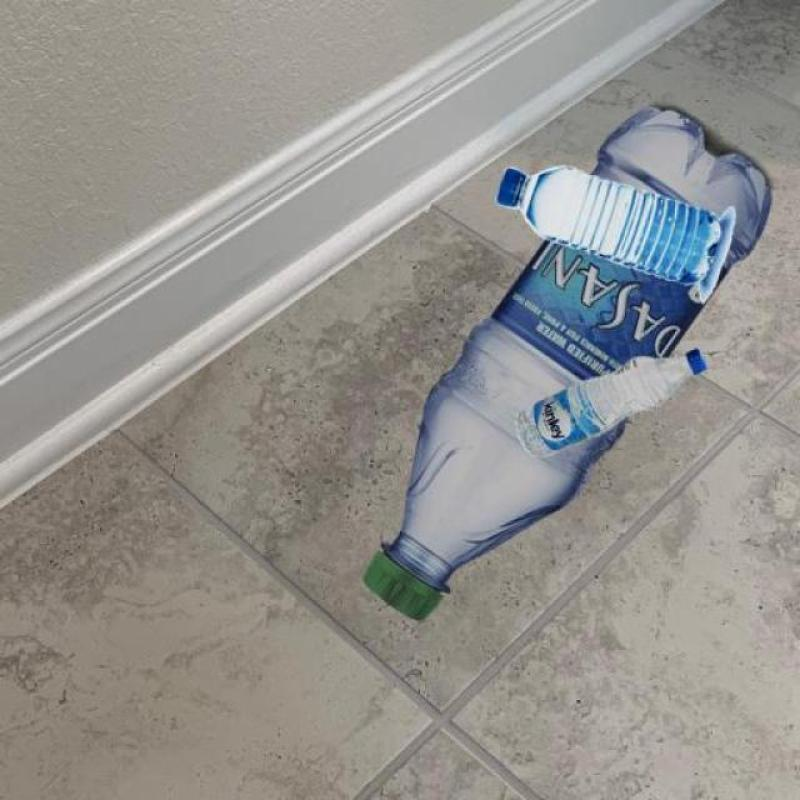botella: (359, 105, 773, 626), (496, 160, 720, 286), (517, 344, 705, 456)
